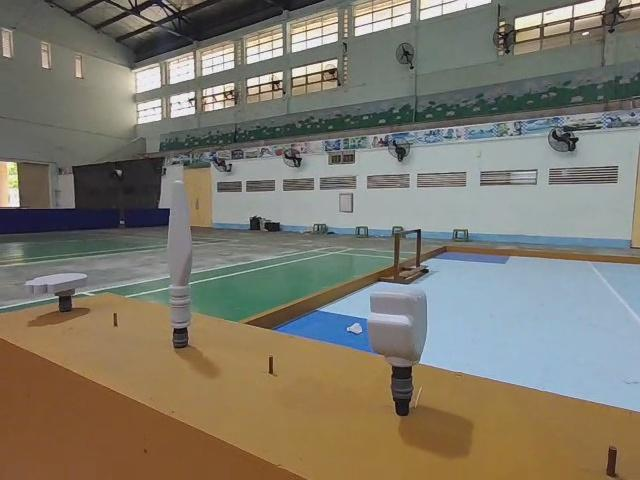Fist: (367, 286, 432, 418)
Hand: (26, 269, 88, 310)
Sph: (165, 181, 199, 353)
